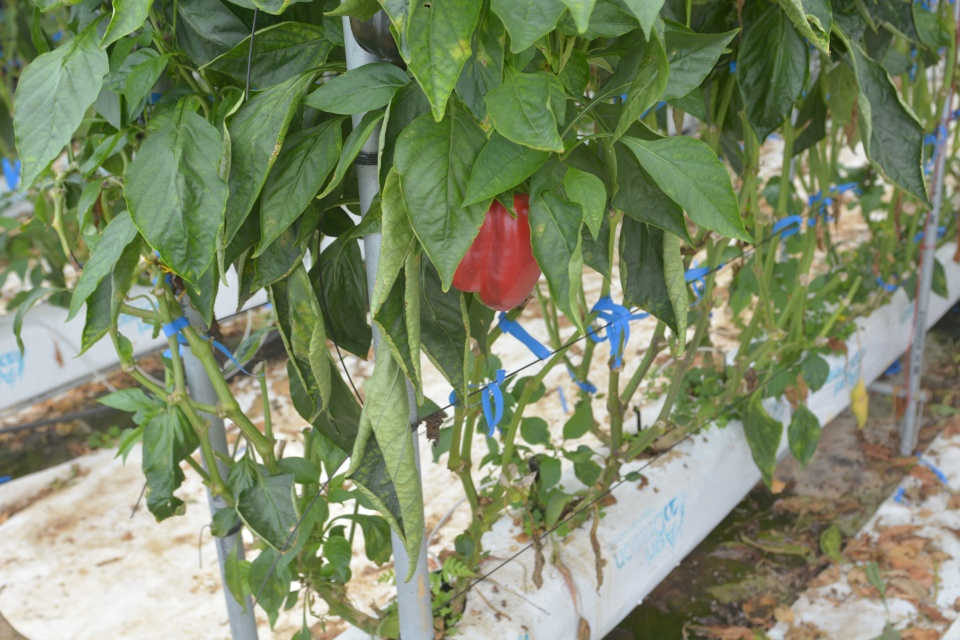fruit: (455, 189, 541, 312), (349, 0, 405, 68)
